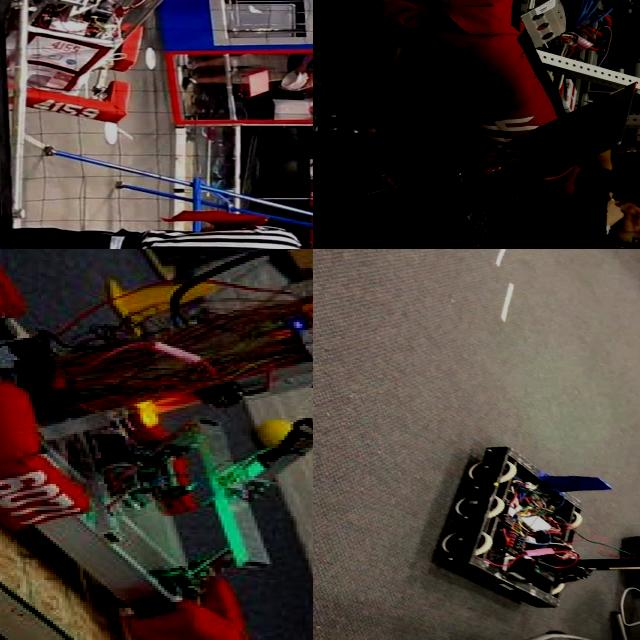FRC-Robots: (0, 249, 313, 640), (375, 0, 640, 193), (431, 443, 640, 613), (0, 0, 236, 127)
